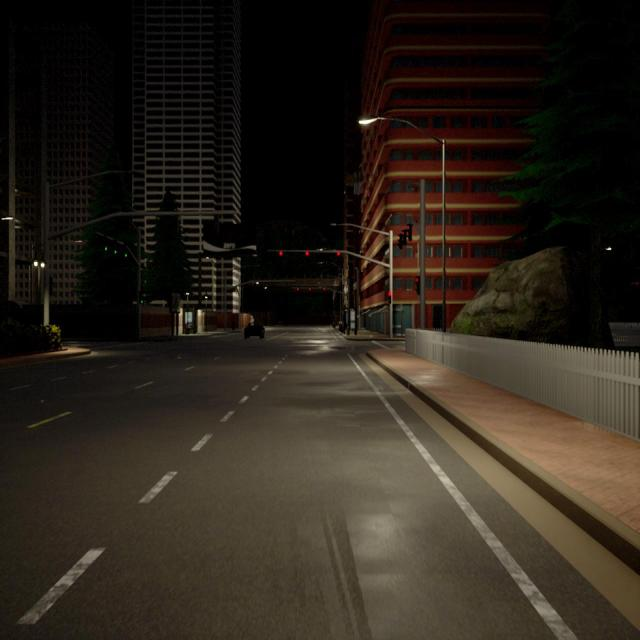Vehicle: (244, 322, 264, 338), (250, 315, 255, 326)
traffic_light: (401, 228, 407, 246), (406, 224, 412, 241), (397, 233, 403, 250), (415, 276, 420, 296), (104, 236, 108, 252), (123, 244, 127, 258), (112, 240, 116, 253), (139, 291, 143, 304), (388, 292, 391, 304), (305, 250, 309, 256), (279, 250, 283, 256), (337, 251, 340, 256), (323, 288, 326, 291), (309, 288, 311, 291), (297, 288, 299, 290)
